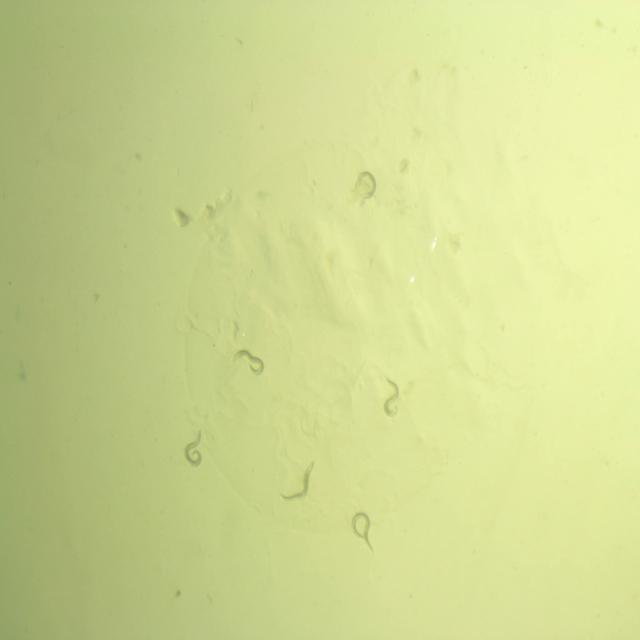worm: (275, 457, 320, 507), (348, 504, 378, 559), (229, 346, 268, 380), (182, 426, 210, 472), (350, 166, 379, 206), (380, 373, 403, 423)
